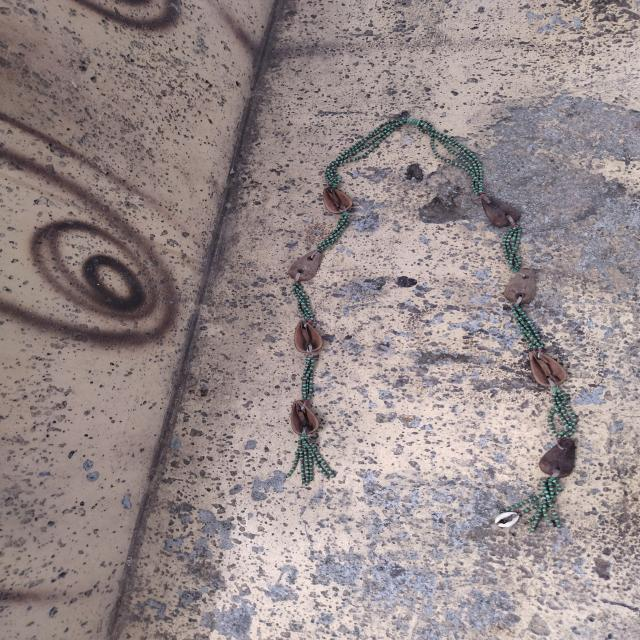facedown: (532, 430, 585, 487), (468, 189, 530, 230), (501, 260, 545, 312), (285, 248, 330, 289)
faceup: (520, 344, 577, 396), (284, 397, 324, 439), (292, 317, 332, 358), (316, 180, 356, 219)
